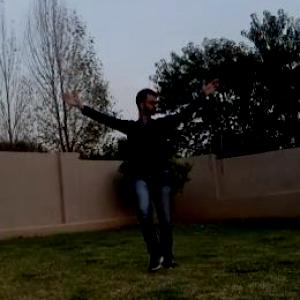takeoff: (62, 57, 233, 271)
